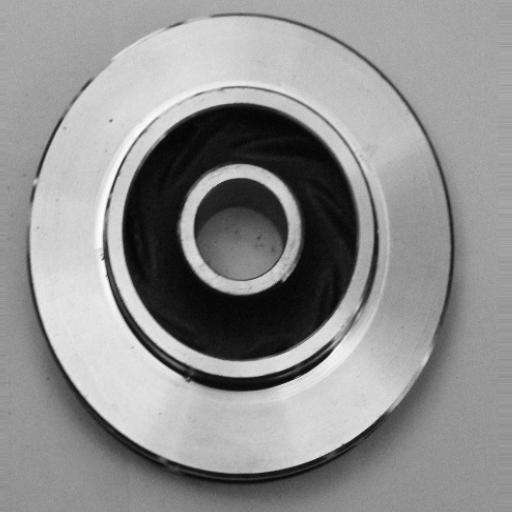scratch: (324, 289, 382, 374)
unpolished_casting: (27, 11, 458, 484)
